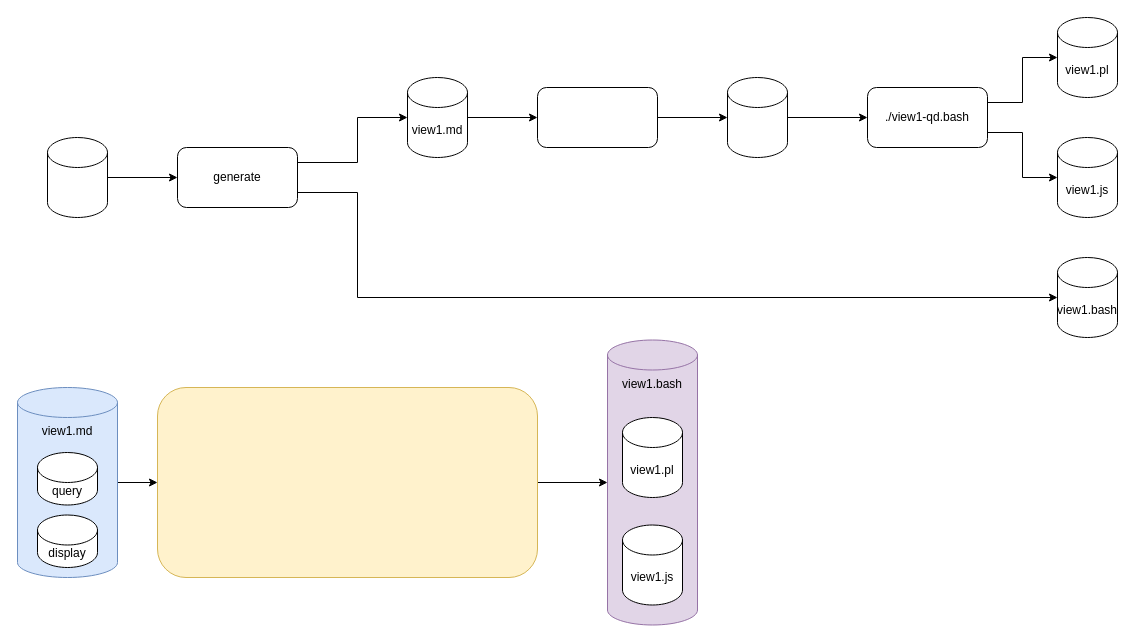
This 1135x643 diagram has some shape labels left out. The centre of each missing label's shape, as x and y in pixels:
querydisplay: the point at 597,117
querydisplay view1: the point at 347,482
view: the point at 77,177
view1-qd.bash: the point at 757,117
